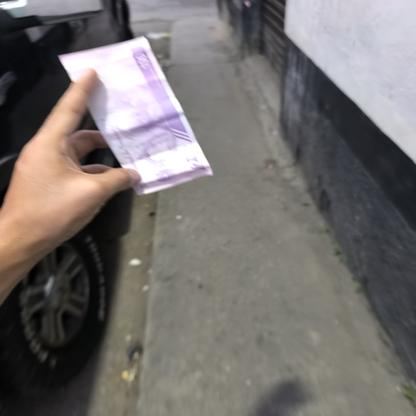one_hundred-back-vef: (57, 34, 214, 196)
